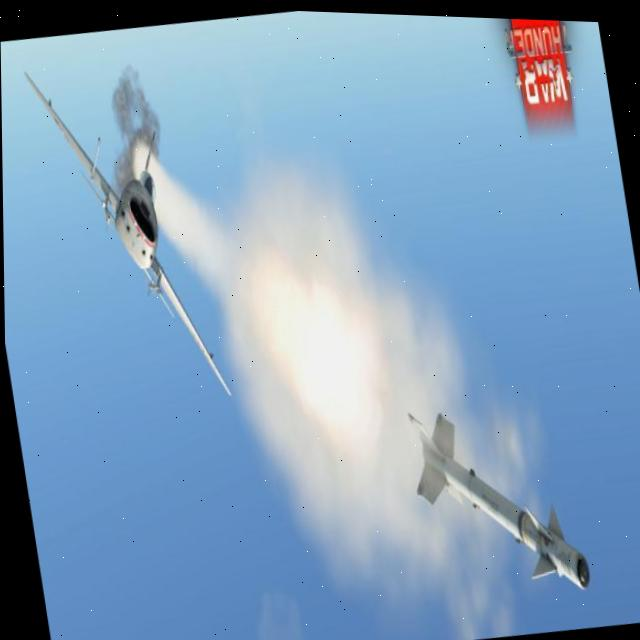missile: (394, 386, 592, 609)
